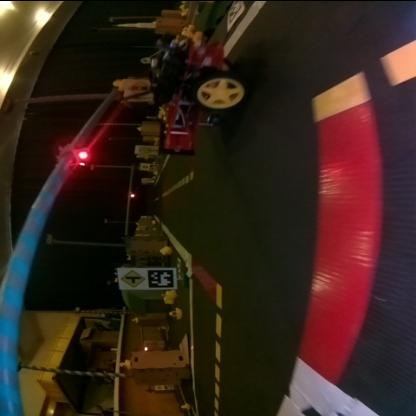Duckie: (112, 77, 124, 89), (169, 307, 182, 317), (161, 244, 171, 254), (120, 358, 130, 367), (165, 289, 175, 297), (183, 23, 193, 30), (131, 316, 139, 322), (180, 402, 187, 408)
Duckiebot: (156, 39, 246, 152)
Intersection sign: (119, 267, 144, 285)
QR code: (148, 266, 175, 288), (226, 1, 245, 29), (149, 163, 157, 169)
Signal sign: (140, 162, 148, 168)
Traffic light: (59, 144, 91, 166), (127, 191, 136, 197)
